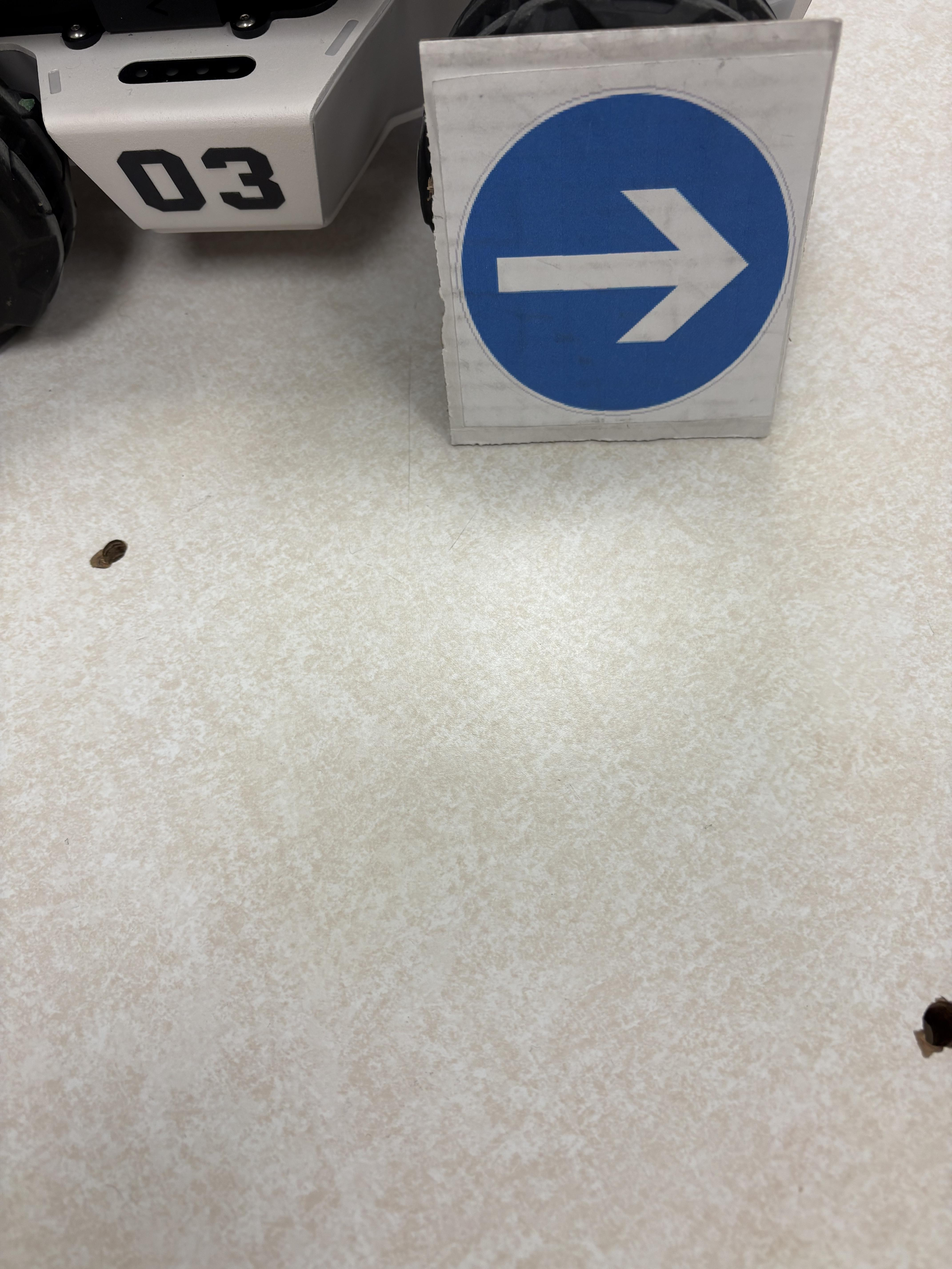Proceed Right: (318, 30, 636, 600)
